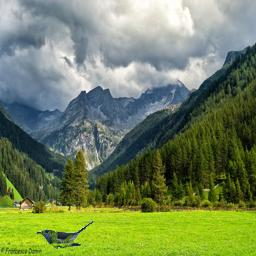Cuckoo: (36, 220, 96, 250)
